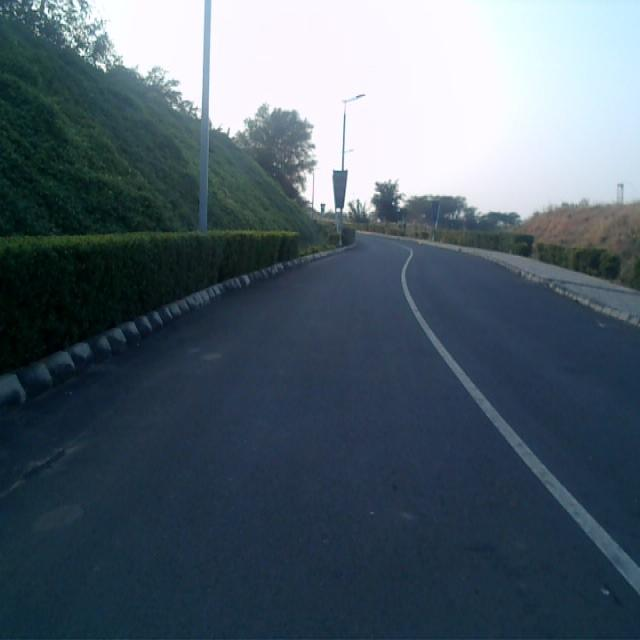lane: (0, 242, 640, 640)
